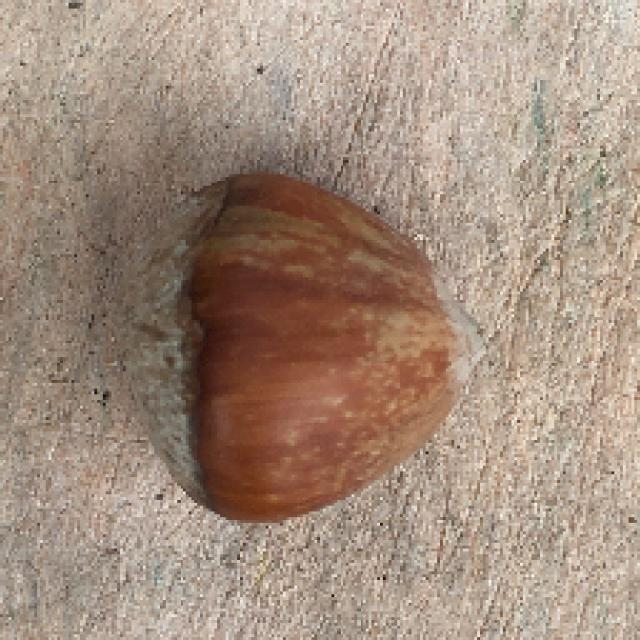qualityHazelnut: (109, 171, 489, 526)
